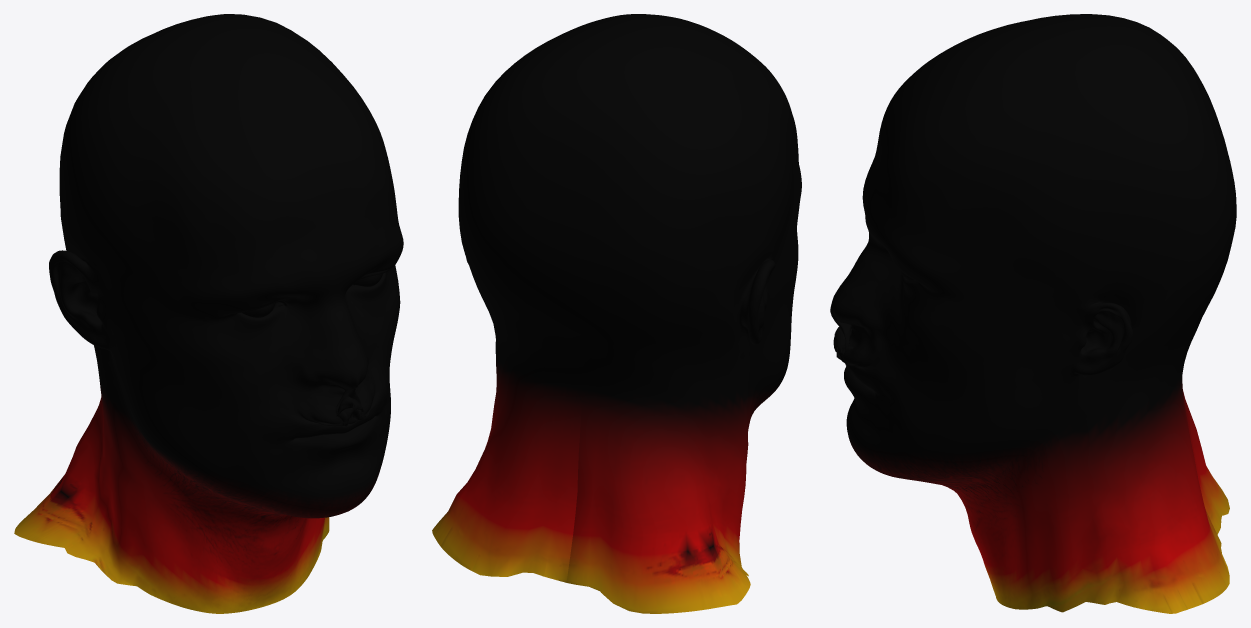
File: MEL_37.glb
3 renders of one model, left to right at view 1: azimuth 30°, elevation 25°; view 2: azimuth 150°, elevation 25°; view 3: azimuth 270°, elevation 25°, orthographic. The views are drawn at different scales.
Parts seen in each view (by area): view 1: MEL_37; view 2: MEL_37; view 3: MEL_37.
Part boxes in pixels (x1,y1,x2,y2): MEL_37: (14, 14, 403, 613); MEL_37: (432, 14, 801, 613); MEL_37: (830, 14, 1236, 613).
Size of the model in its own units: 0.2263 by 0.3846 by 0.2527.
1 material, 1 textured.
